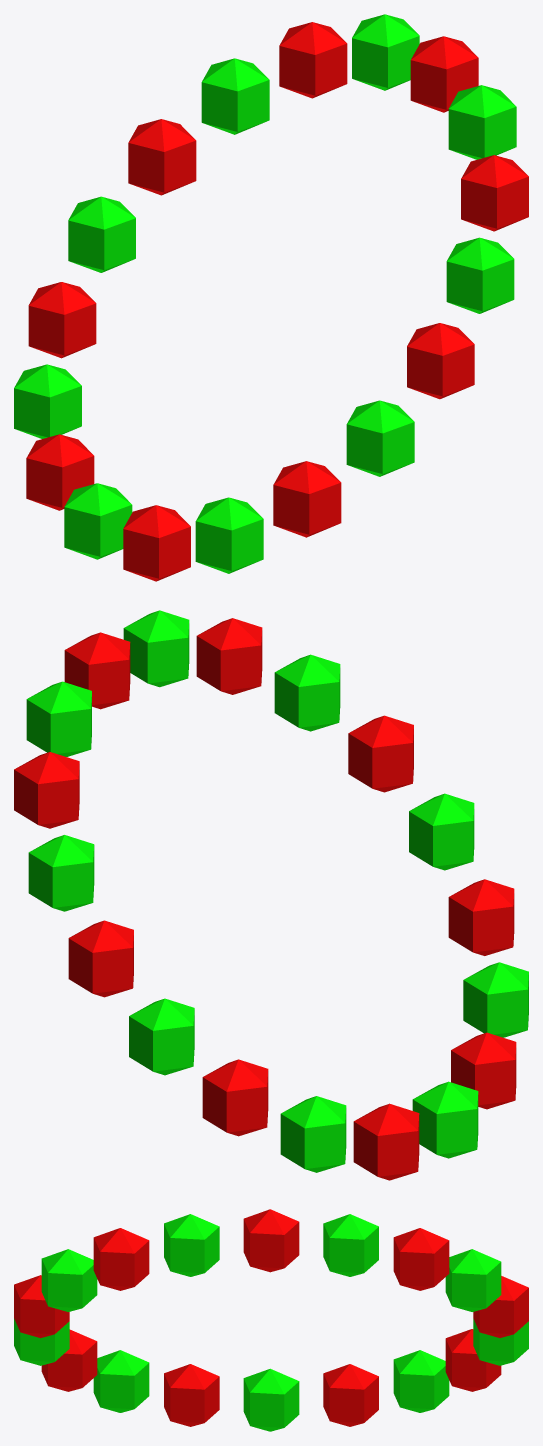
File: wrist_beads_01.glb
The picture shows the model from 3 angles, top to bottom: view 1: azimuth 30°, elevation 25°; view 2: azimuth 150°, elevation 25°; view 3: azimuth 270°, elevation 25°; orthographic projection. The views are drawn at different scales.
Visible parts, largest first — view 1: wrist_beads_01; view 2: wrist_beads_01; view 3: wrist_beads_01.
Boxes of the visible parts, x1,y1,x2,y2 form: wrist_beads_01: [14, 14, 528, 581]; wrist_beads_01: [14, 610, 528, 1180]; wrist_beads_01: [14, 1209, 528, 1431].
Size of the model in its own units: 0.0818 by 0.0848 by 0.1094.
Materials: 1 (1 with a texture image).
